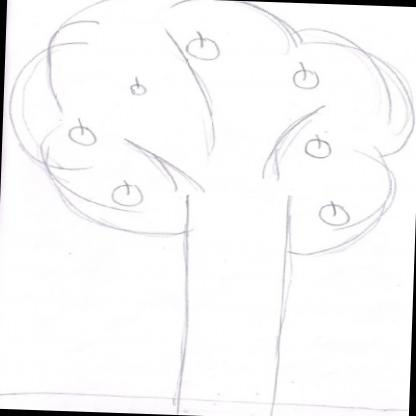apple: (184, 30, 221, 62), (110, 179, 146, 207), (318, 200, 352, 228), (290, 61, 322, 90), (66, 118, 97, 146), (304, 134, 332, 159), (130, 76, 146, 96)
branch_line: (122, 28, 328, 220)
crown_cloud: (4, 0, 416, 259)
root_none: (135, 379, 311, 416)
trunk_straight: (178, 260, 288, 372)
